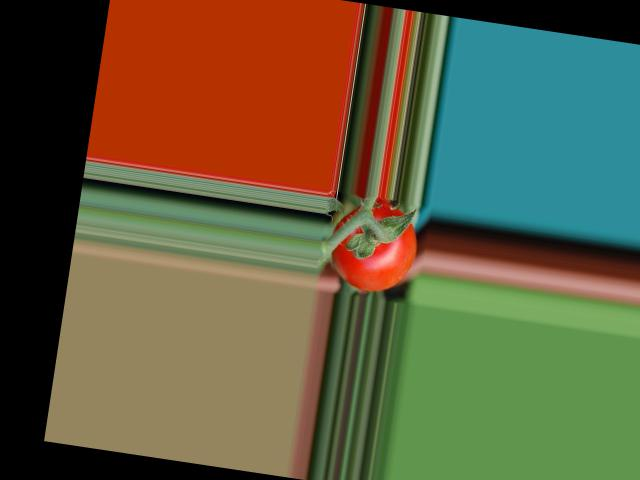tomato: (325, 193, 423, 296)
